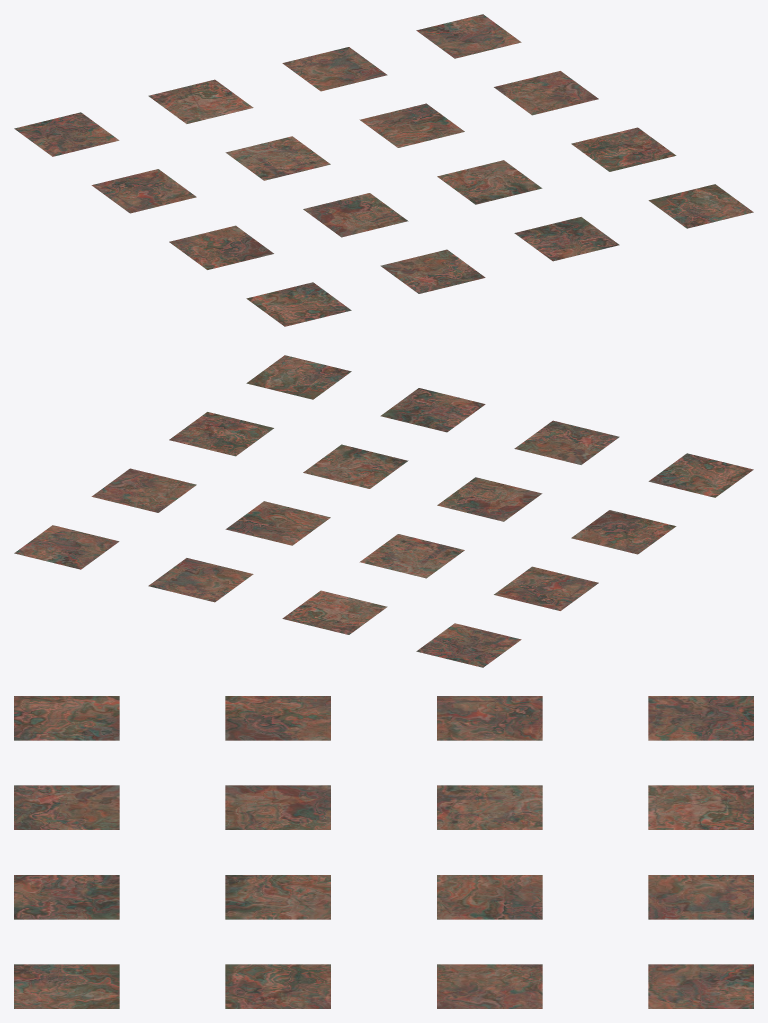
The model's file is cave_floors.glb.
The picture shows the model from 3 angles, top to bottom: view 1: azimuth 30°, elevation 25°; view 2: azimuth 150°, elevation 25°; view 3: azimuth 270°, elevation 25°; orthographic projection. The views are drawn at different scales.
Visible parts, largest first — view 1: cave_floor.012, cave_floor.005, cave_floor.013, cave_floor.004, cave_floor.016, cave_floor.015, cave_floor.010, cave_floor.007, cave_floor.002, cave_floor.001, cave_floor.009, cave_floor.008 (+4 smaller); view 2: cave_floor.009, cave_floor.008, cave_floor.016, cave_floor.001, cave_floor.014, cave_floor.013, cave_floor.011, cave_floor.006, cave_floor.004, cave_floor.003, cave_floor.012, cave_floor.005 (+4 smaller); view 3: cave_floor.016, cave_floor.015, cave_floor.014, cave_floor.013, cave_floor.012, cave_floor.011, cave_floor.010, cave_floor.009, cave_floor.008, cave_floor.007, cave_floor.006, cave_floor.005 (+4 smaller).
Boxes of the visible parts, x1,y1,x2,y2 form: cave_floor.012: [571, 127, 676, 171]; cave_floor.005: [91, 169, 196, 213]; cave_floor.013: [246, 282, 351, 326]; cave_floor.004: [416, 14, 521, 58]; cave_floor.016: [648, 184, 753, 228]; cave_floor.015: [514, 217, 619, 261]; cave_floor.010: [303, 193, 408, 237]; cave_floor.007: [359, 103, 464, 147]; cave_floor.002: [148, 79, 253, 123]; cave_floor.001: [14, 112, 119, 156]; cave_floor.009: [169, 225, 273, 269]; cave_floor.008: [494, 71, 598, 115]; cave_floor.009: [571, 510, 676, 554]; cave_floor.008: [91, 468, 196, 512]; cave_floor.016: [246, 355, 351, 399]; cave_floor.001: [416, 623, 521, 667]; cave_floor.014: [514, 420, 619, 464]; cave_floor.013: [648, 453, 753, 497]; cave_floor.011: [303, 444, 408, 488]; cave_floor.006: [359, 534, 464, 578]; cave_floor.004: [14, 525, 119, 569]; cave_floor.003: [148, 558, 253, 602]; cave_floor.012: [169, 412, 273, 456]; cave_floor.005: [494, 566, 598, 610]; cave_floor.016: [14, 964, 119, 1008]; cave_floor.015: [14, 875, 119, 919]; cave_floor.014: [14, 785, 119, 829]; cave_floor.013: [14, 696, 119, 740]; cave_floor.012: [225, 964, 330, 1008]; cave_floor.011: [225, 875, 330, 919]; cave_floor.010: [225, 785, 330, 829]; cave_floor.009: [225, 696, 330, 740]; cave_floor.008: [437, 964, 542, 1008]; cave_floor.007: [437, 875, 542, 919]; cave_floor.006: [437, 785, 542, 829]; cave_floor.005: [437, 696, 542, 740].
Bounding box in the file's own units: 14 × 0 × 14.
Materials: 1 (1 with a texture image).
